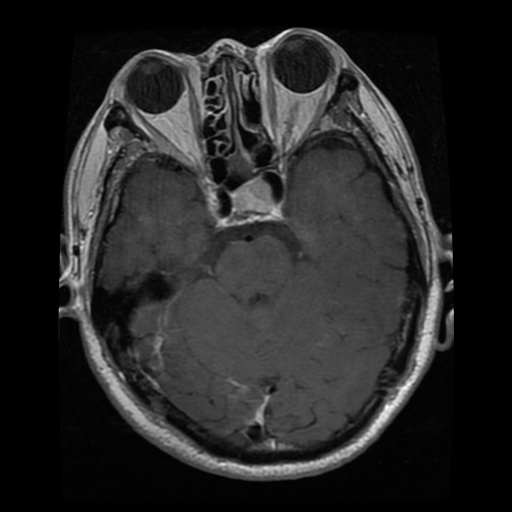pituitary: (234, 179, 274, 211)
